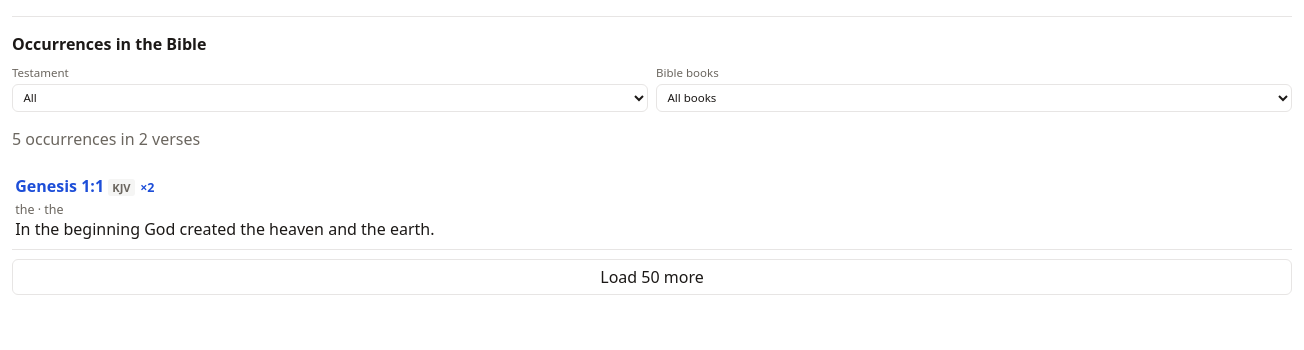
Test: StrongOccurrences › shows totals, groups repeated uses, and loads every page
Check: the text "5 occurrences in 2 verses" is shown, box [12, 128, 200, 150]
Check: the text "×2" is shown, box [140, 179, 154, 196]
Click the button "Load 50 more". click: coordinates (652, 277)
box: [12, 259, 1292, 295]
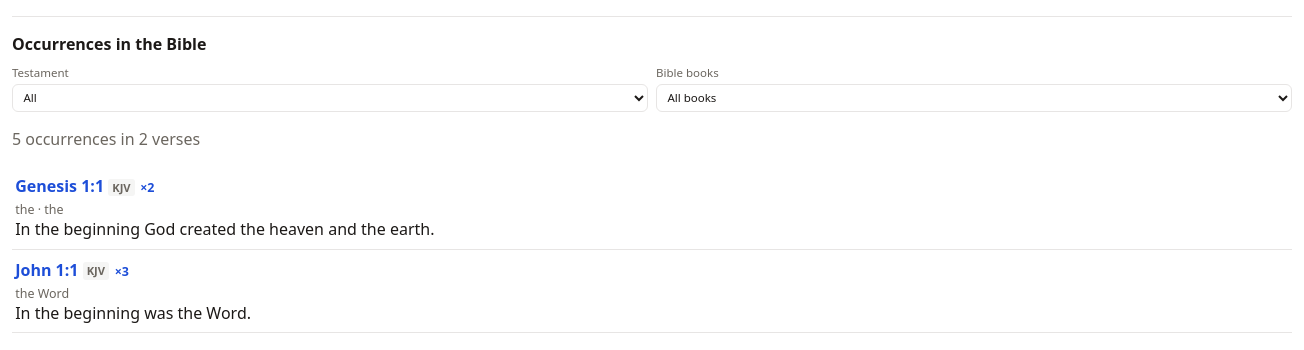
Check: the text "John 1:1" is shown, box [15, 259, 78, 281]
